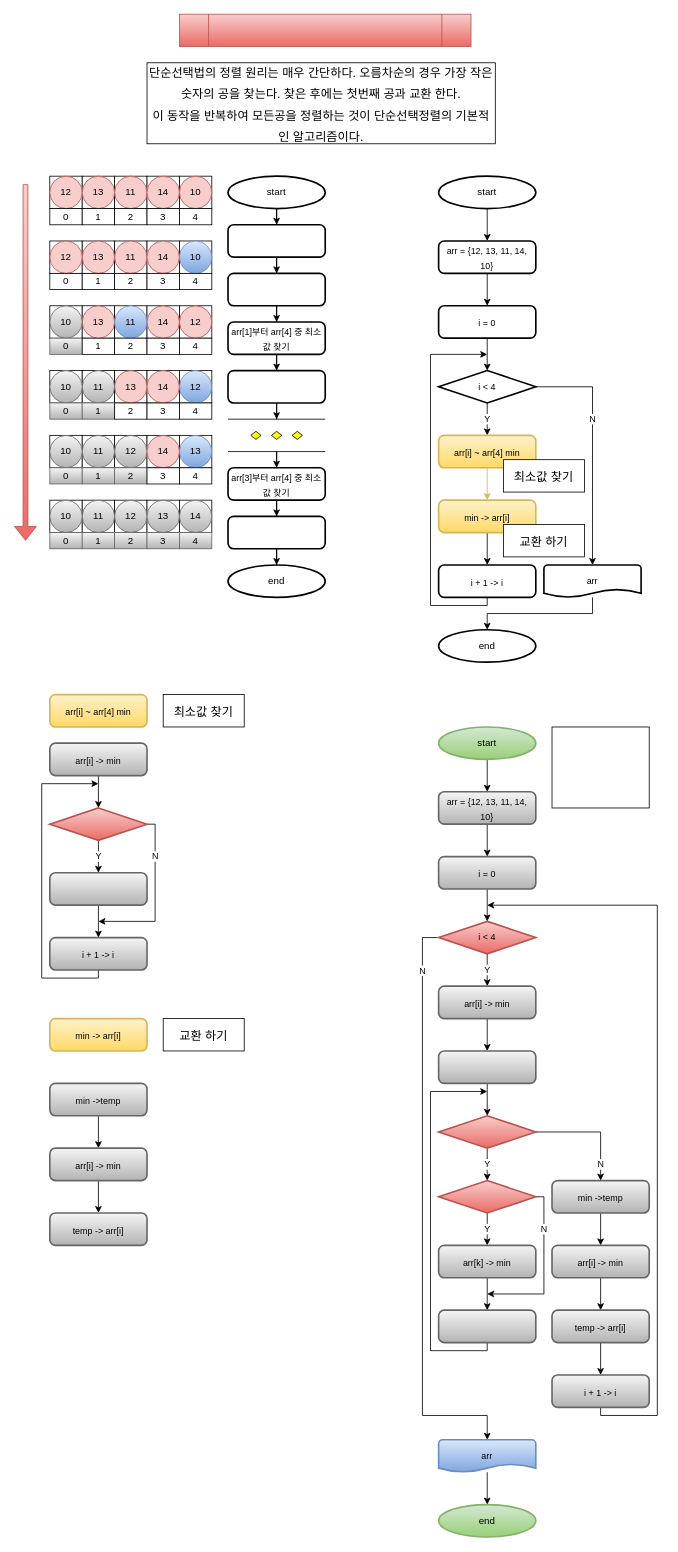
The diagram is 678 pixels wide and 1552 high, and some of its shapes have lost their labels. The shapes that lost their labels are listed below. From the top down, each one's box as (x1, y1, x2, y2) in pixels, then its label:
(179, 13, 471, 47): Selection Sort
(227, 224, 326, 258): arr[0]부터 arr[4] 중 최소값 찾기
(227, 272, 326, 306): 그 최소값과 arr[0]을 교환한다.
(227, 369, 326, 403): 그 최소값과 arr[1]을 교환한다.
(227, 515, 326, 549): 그 최소값과 arr[3]을 교환한다.
(551, 726, 649, 808): i는 전체범위 k는 확정을 제외한 범위
(49, 807, 147, 841): arr[i+1] < arr[i]
(49, 872, 147, 906): arr[i+1] -> min
(437, 1050, 536, 1084): i + 1 -> k
(437, 1115, 536, 1149): k < 5
(437, 1179, 536, 1213): arr[k] < min
(437, 1309, 536, 1343): k + 1 -> k
